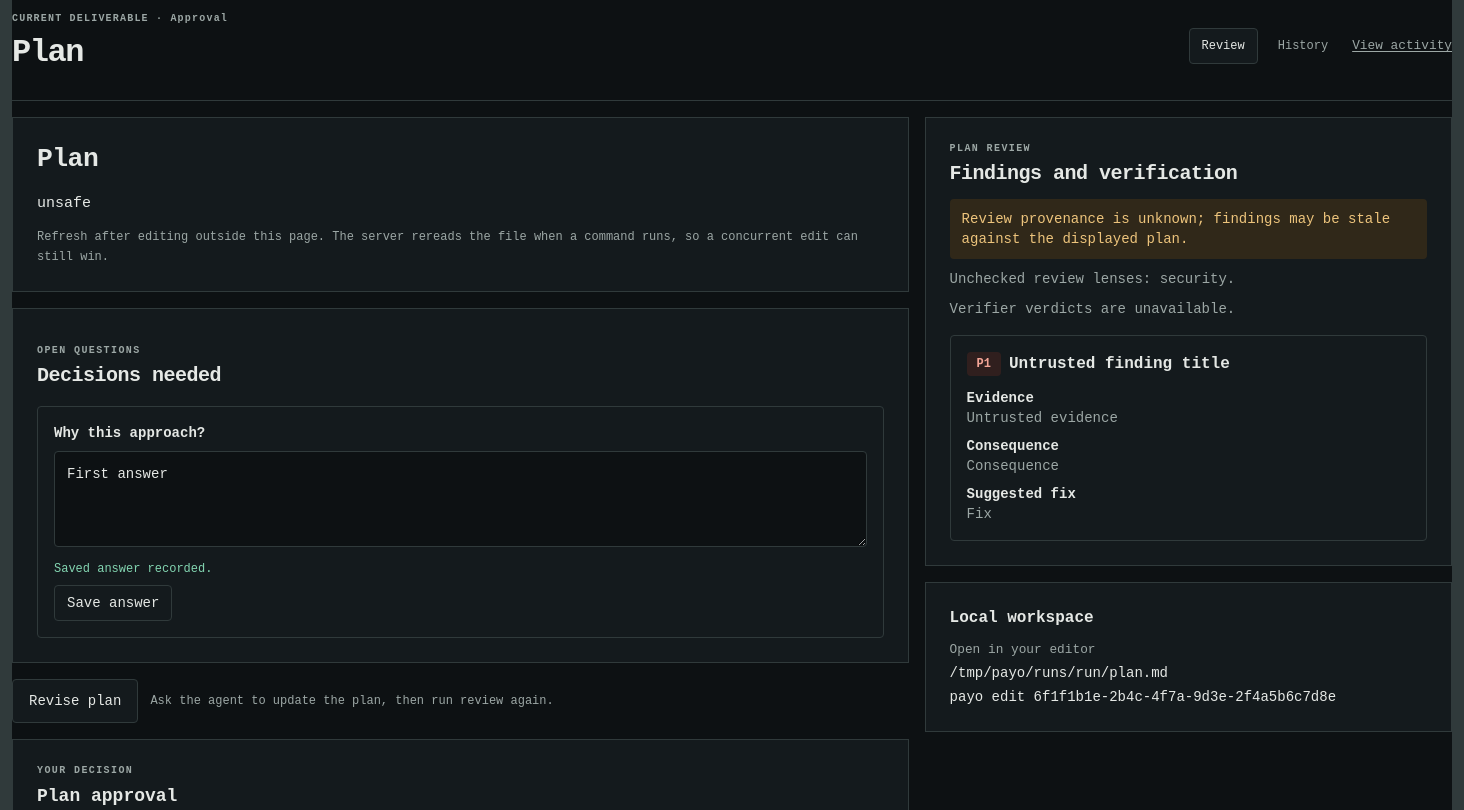
it: labels an old draft separately from an answer restored by the server
The width and height of the screenshot is (1464, 810).
Replace the text in the text box labelled "Why this approach?" with "Unsaved text" at x=460, y=499, box [54,451,867,547]
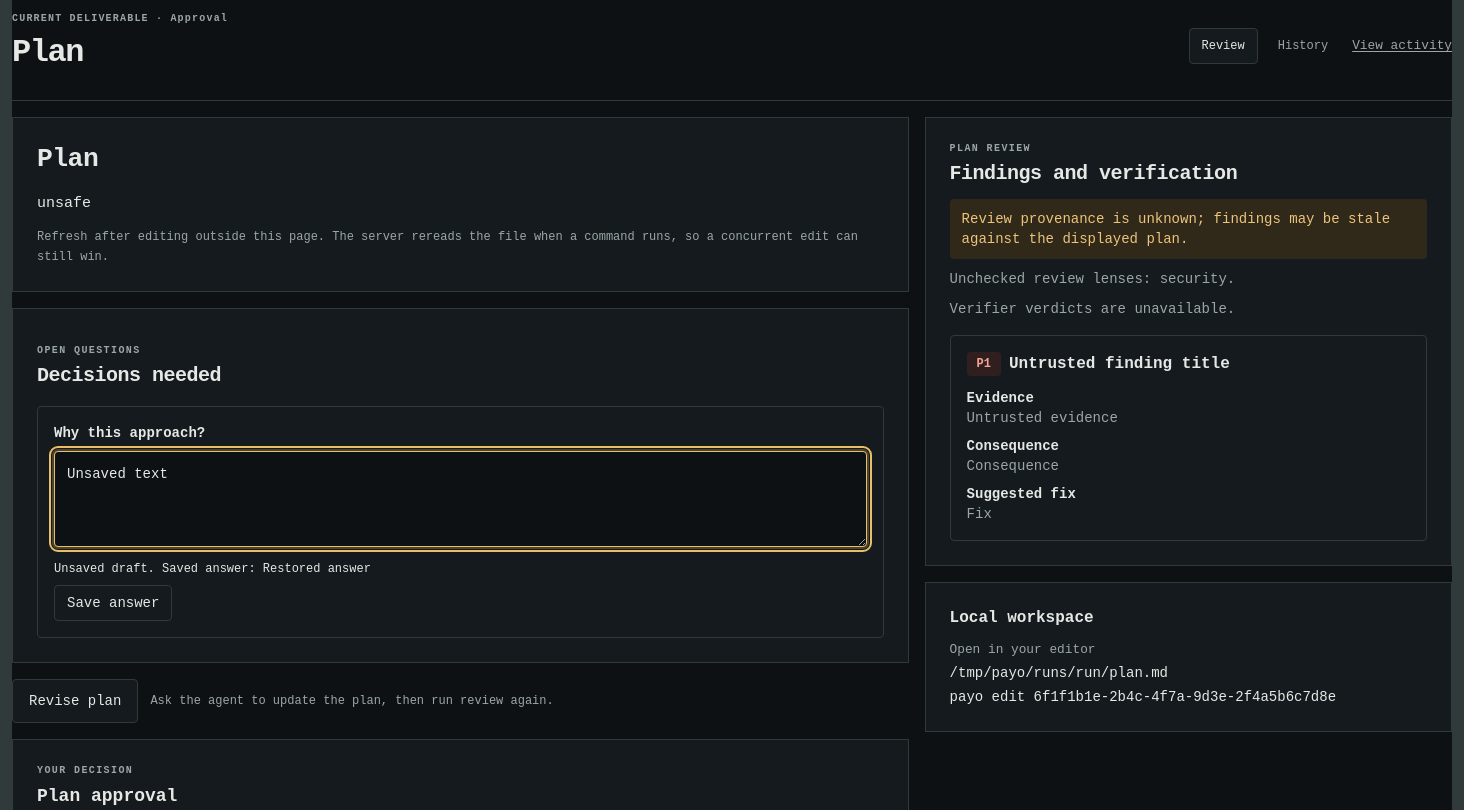
Expected: the text "Unsaved draft. Saved answer: Restored answer" is shown, [54,562,371,576]
